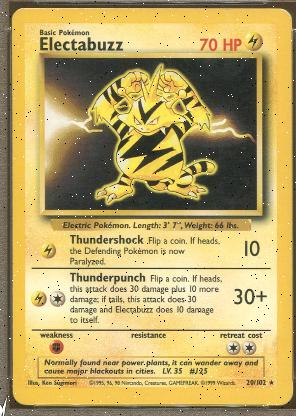Card: (8, 5, 294, 408)
